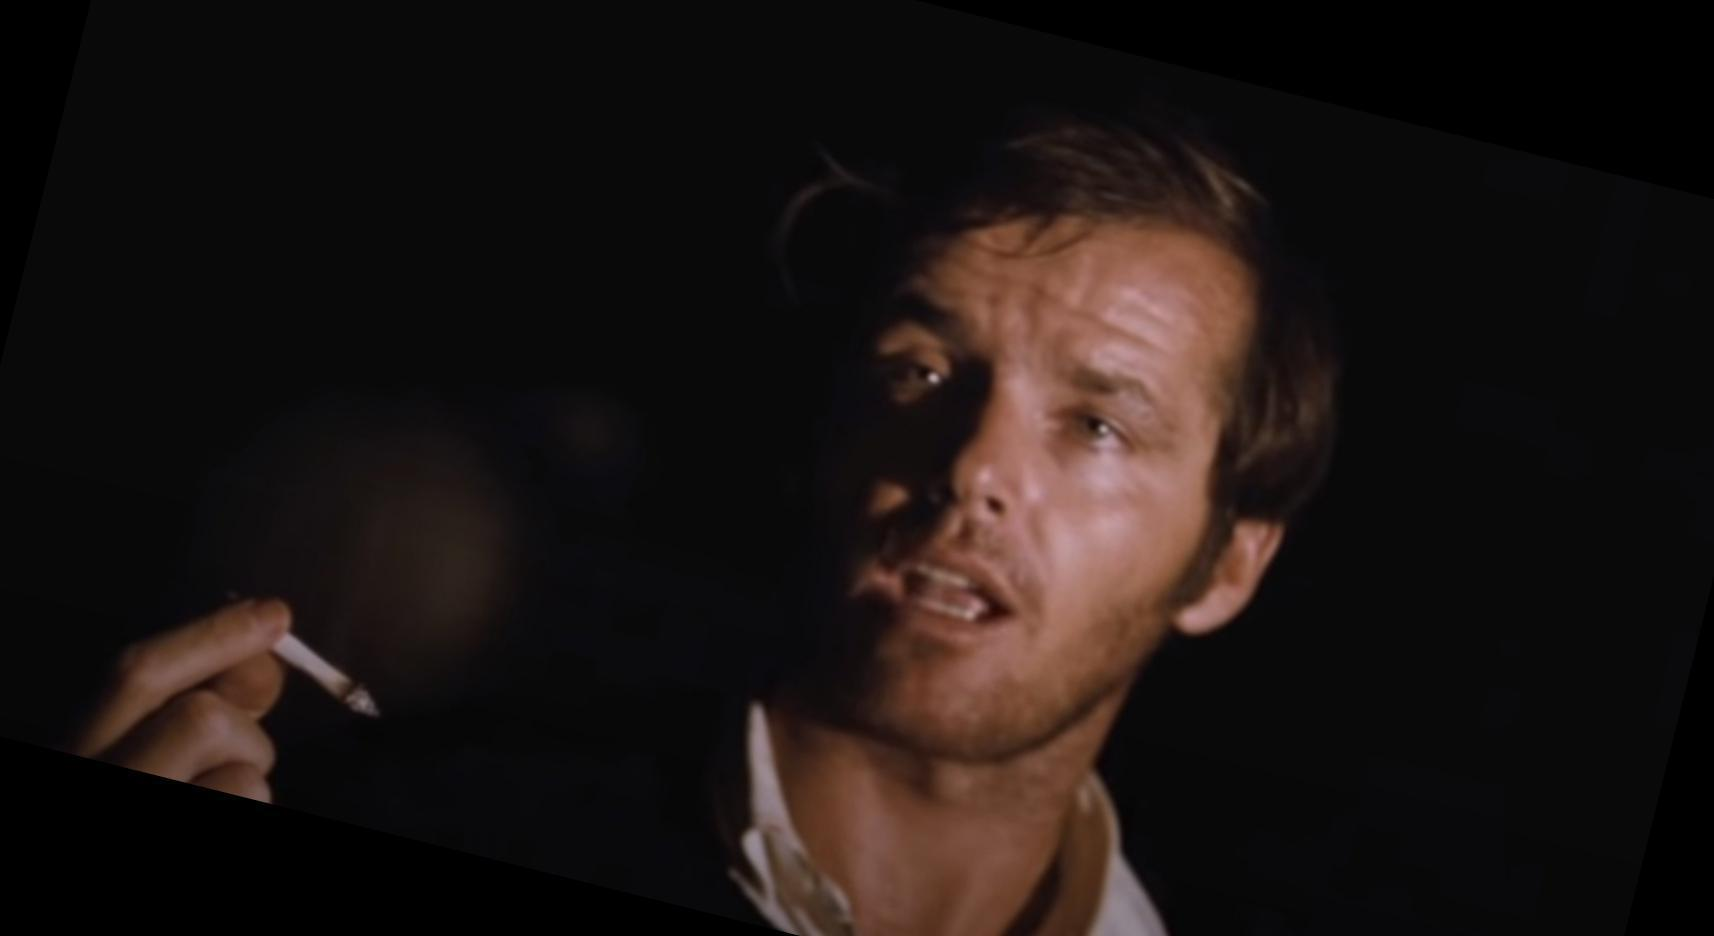Drunk: (853, 216, 1198, 730)
